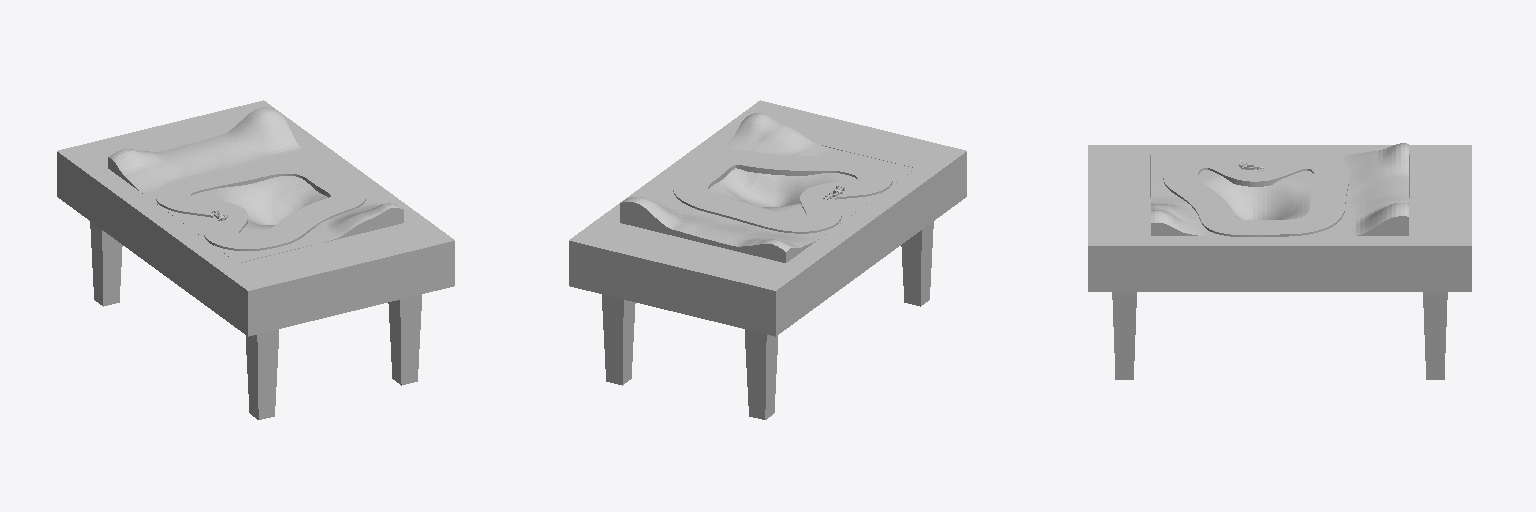
File: NewestTisch75.obj
The picture shows the model from 3 angles: view 1: azimuth 30°, elevation 25°; view 2: azimuth 150°, elevation 25°; view 3: azimuth 270°, elevation 25°; orthographic projection.
Parts seen in each view (by area): view 1: Tischplatte_wood_table_001, Landschaft_aerial_grass_rock, off, Bein1_wood_table_001, Bein4_wood_table_001.003, Bein3_wood_table_001.002; view 2: Tischplatte_wood_table_001, Landschaft_aerial_grass_rock, off, Bein2_wood_table_001.001, Bein3_wood_table_001.002, Bein4_wood_table_001.003; view 3: Tischplatte_wood_table_001, Landschaft_aerial_grass_rock, off, Bein1_wood_table_001, Bein2_wood_table_001.001.
Boxes of the visible parts, x1,y1,x2,y2 form: Tischplatte_wood_table_001: [57, 100, 454, 336]; Landschaft_aerial_grass_rock: [108, 107, 403, 262]; off: [156, 159, 365, 250]; Bein1_wood_table_001: [388, 294, 421, 385]; Bein4_wood_table_001.003: [246, 329, 278, 419]; Bein3_wood_table_001.002: [90, 221, 122, 306]; Tischplatte_wood_table_001: [569, 100, 966, 336]; Landschaft_aerial_grass_rock: [620, 113, 915, 262]; off: [673, 150, 892, 233]; Bein2_wood_table_001.001: [602, 294, 635, 385]; Bein3_wood_table_001.002: [745, 329, 777, 419]; Bein4_wood_table_001.003: [901, 221, 933, 306]; Tischplatte_wood_table_001: [1088, 145, 1471, 291]; Landschaft_aerial_grass_rock: [1151, 143, 1408, 235]; off: [1163, 153, 1348, 236]; Bein1_wood_table_001: [1112, 292, 1136, 379]; Bein2_wood_table_001.001: [1423, 292, 1447, 379].
Bounding box in the file's own units: 5 × 3.91 × 8.